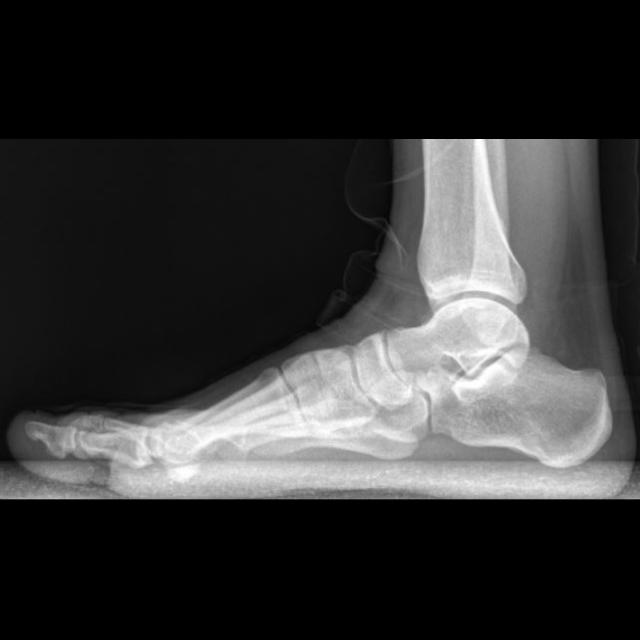a: (426, 344, 612, 468)
b: (353, 332, 411, 408)
c: (150, 366, 308, 461)
